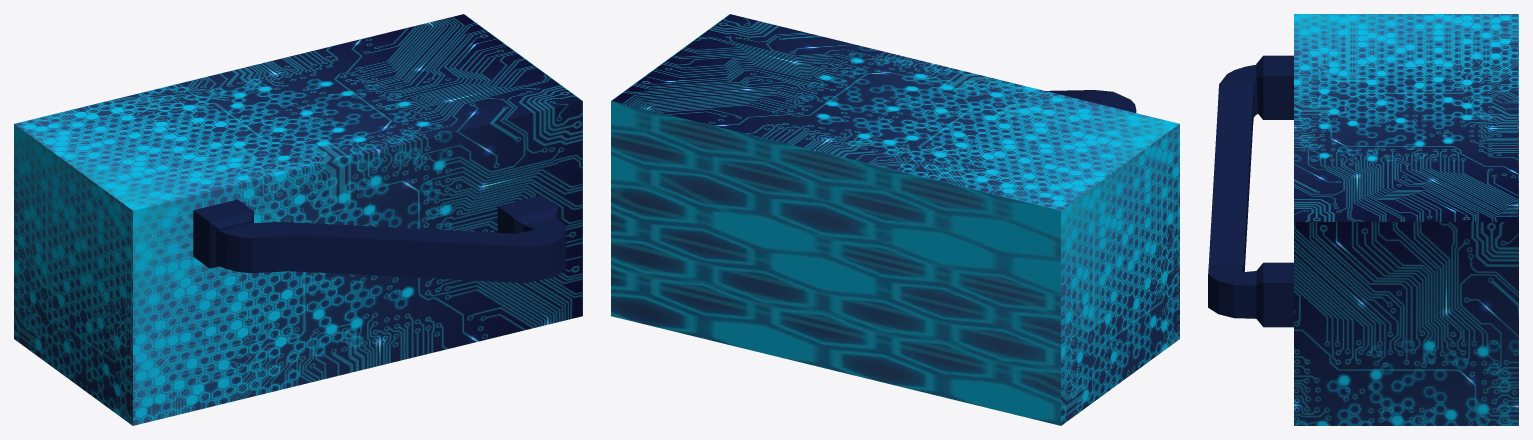
Rendered from Hi Tech.fbx.
3 renders of one model, left to right at view 1: azimuth 30°, elevation 25°; view 2: azimuth 150°, elevation 25°; view 3: azimuth 270°, elevation 25°, orthographic. The views are drawn at different scales.
Visible parts, largest first — view 1: hi tech; view 2: hi tech; view 3: hi tech.
Boxes of the visible parts, x1,y1,x2,y2 form: hi tech: [14, 14, 582, 425]; hi tech: [611, 14, 1179, 425]; hi tech: [1208, 14, 1518, 425].
Size of the model in its own units: 438 by 200 by 276.
